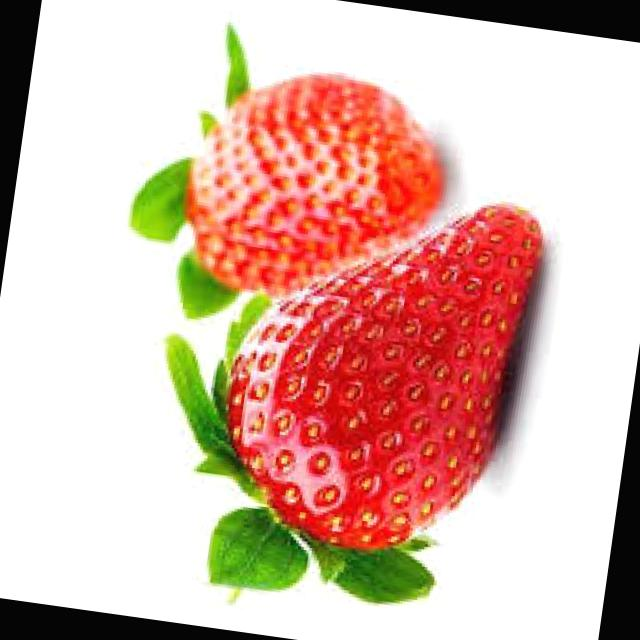tofu: (142, 153, 555, 640), (123, 23, 465, 320)
